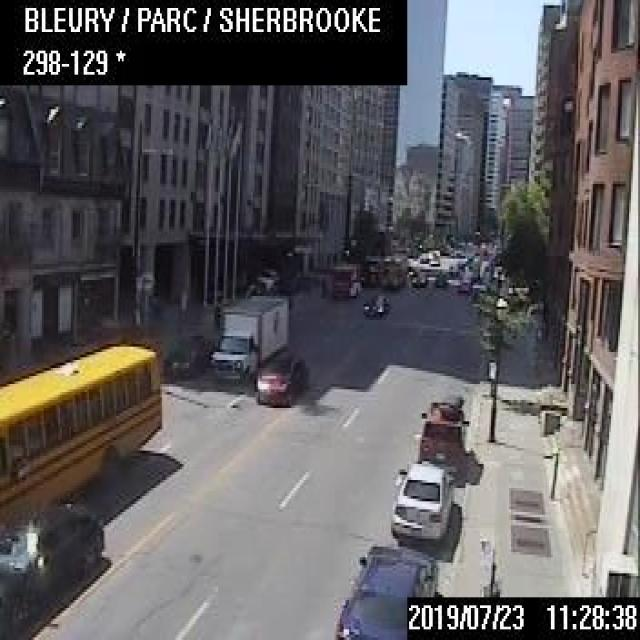bus: (0, 341, 160, 523), (381, 250, 406, 285)
vehicle: (0, 501, 102, 635), (334, 544, 441, 638), (208, 292, 287, 385), (390, 460, 452, 542), (416, 393, 468, 467), (254, 350, 305, 403), (164, 336, 206, 376), (330, 261, 360, 294), (360, 294, 391, 318), (255, 266, 276, 288), (410, 269, 427, 285), (456, 276, 470, 292), (433, 267, 445, 285), (427, 248, 438, 264)
